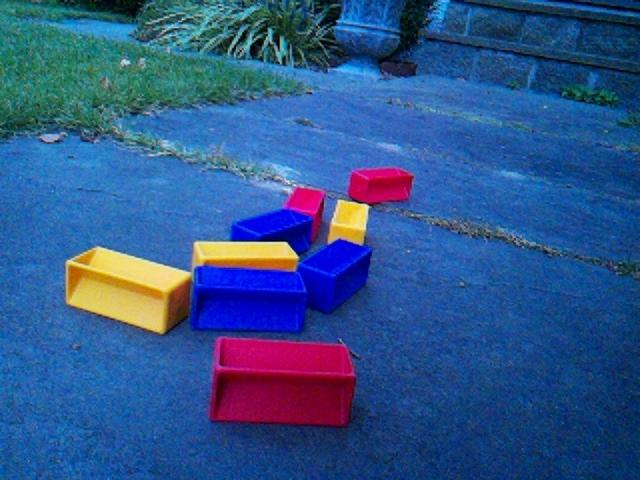blue: (190, 263, 309, 333), (298, 237, 374, 314), (230, 207, 314, 253)
red: (208, 334, 358, 428), (347, 165, 415, 205), (282, 185, 326, 242)
yellow: (64, 244, 192, 336), (192, 239, 300, 273), (327, 198, 371, 246)
